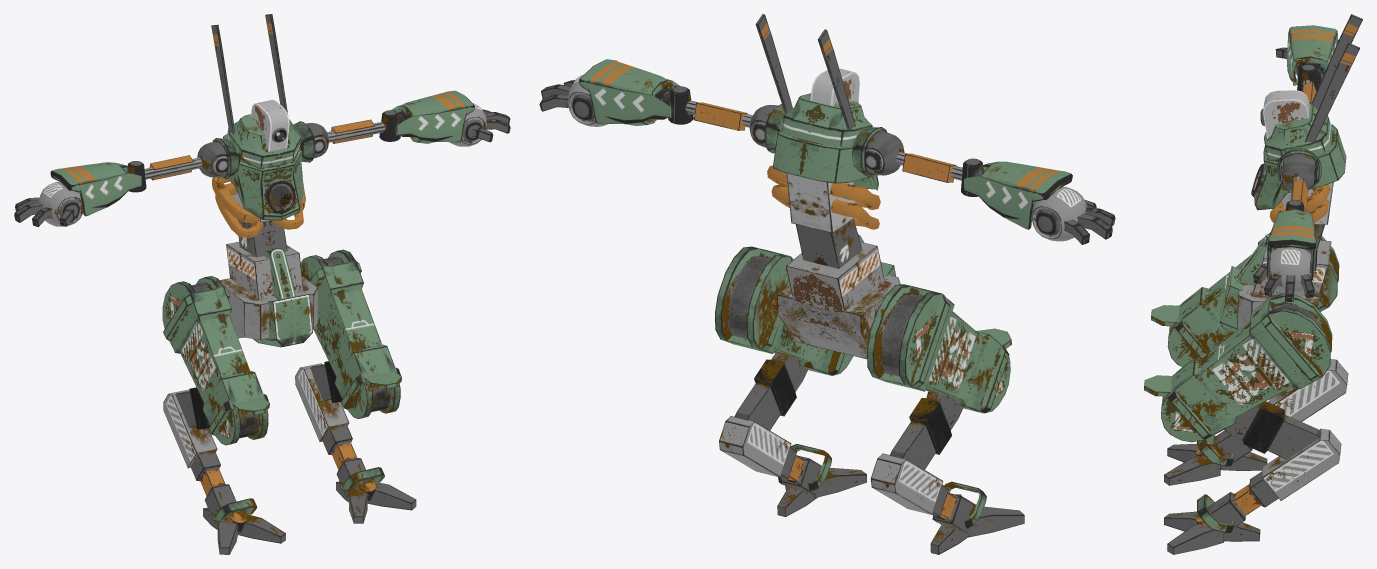
The model's file is george.glb.
The picture shows the model from 3 angles, left to right: view 1: azimuth 30°, elevation 25°; view 2: azimuth 150°, elevation 25°; view 3: azimuth 270°, elevation 25°; orthographic projection. The views are drawn at different scales.
Visible parts, largest first — view 1: George; view 2: George; view 3: George.
Part boxes in pixels (x1,y1,x2,y2): George: [14, 14, 510, 554]; George: [539, 14, 1115, 554]; George: [1144, 14, 1362, 554].
Size of the model in its own units: 7.25 by 6.5 by 2.67.
1 material, 1 textured.
